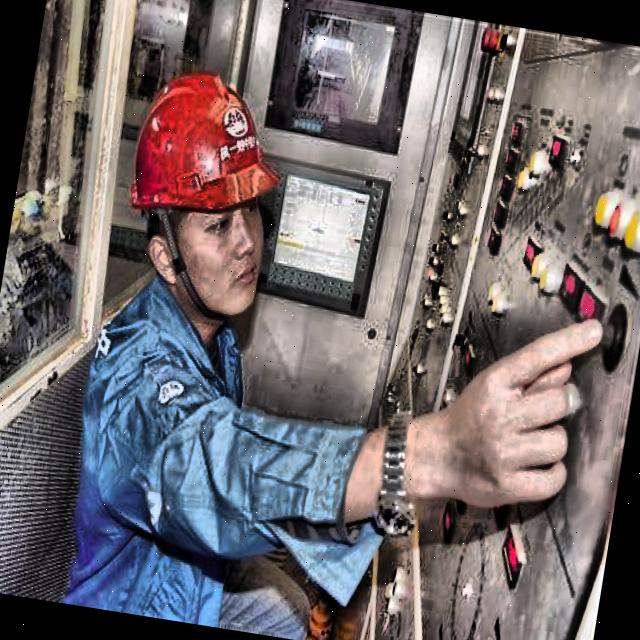helmet: (109, 55, 301, 324)
